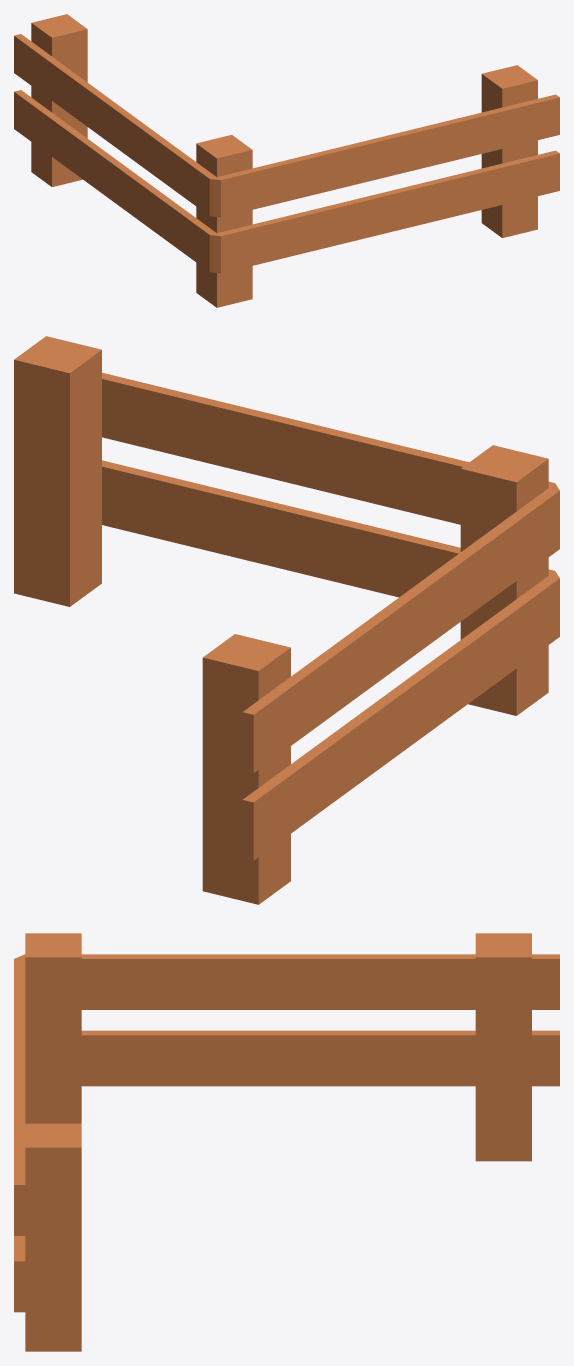
File: fenceCorner.fbx
The picture shows the model from 3 angles, top to bottom: view 1: azimuth 30°, elevation 25°; view 2: azimuth 150°, elevation 25°; view 3: azimuth 270°, elevation 25°; orthographic projection. The views are drawn at different scales.
Parts seen in each view (by area): view 1: fenceCorner; view 2: fenceCorner; view 3: fenceCorner.
Part boxes in pixels (x1,y1,x2,y2): fenceCorner: (14, 14, 559, 307); fenceCorner: (14, 336, 559, 904); fenceCorner: (14, 933, 559, 1351).
Size of the model in its own units: 9.7 by 4 by 9.7.
